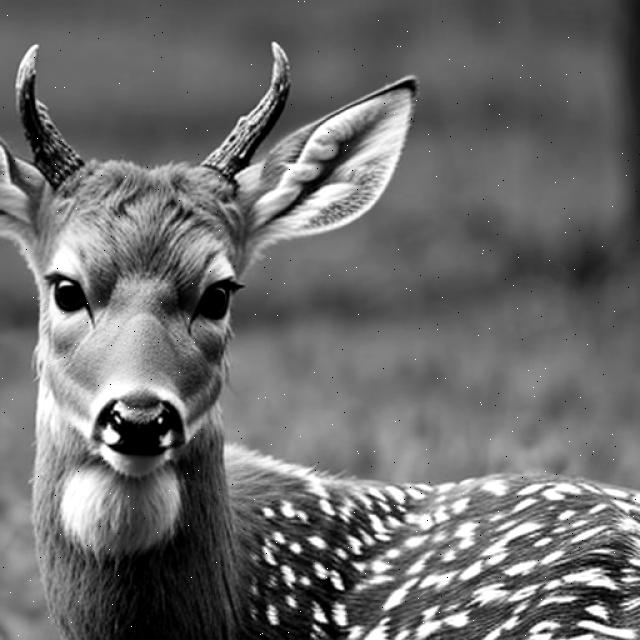deer: (0, 28, 610, 640)
